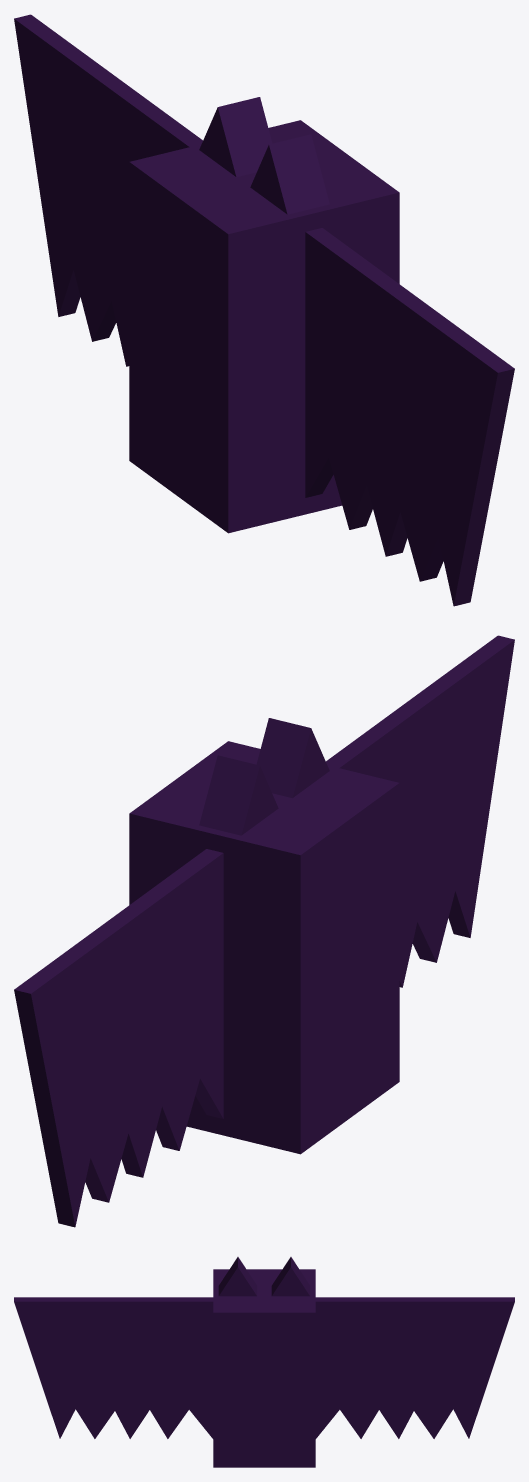
The model's file is Bat.fbx.
3 views of the same model, one above another, from view 1: azimuth 30°, elevation 25°; view 2: azimuth 150°, elevation 25°; view 3: azimuth 270°, elevation 25° (orthographic). The views are drawn at different scales.
Parts seen in each view (by area): view 1: Bat; view 2: Bat; view 3: Bat.
Part boxes in pixels (x1,y1,x2,y2): Bat: (14,14,514,606); Bat: (14,635,514,1227); Bat: (14,1257,514,1467).
Size of the model in its own units: 30 by 59.53 by 147.
